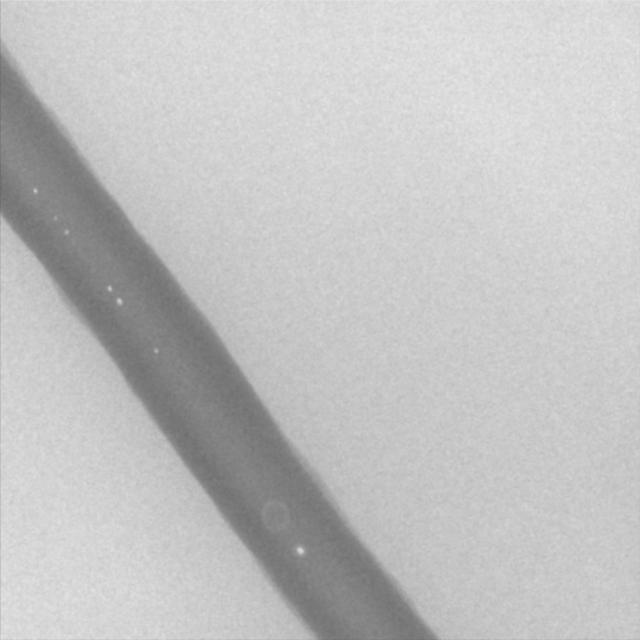air hole: (293, 543, 305, 558), (151, 345, 160, 357), (114, 297, 123, 308), (105, 283, 112, 292), (31, 186, 38, 195), (51, 212, 57, 222), (63, 228, 70, 236)
hollow bead: (260, 498, 290, 533)
